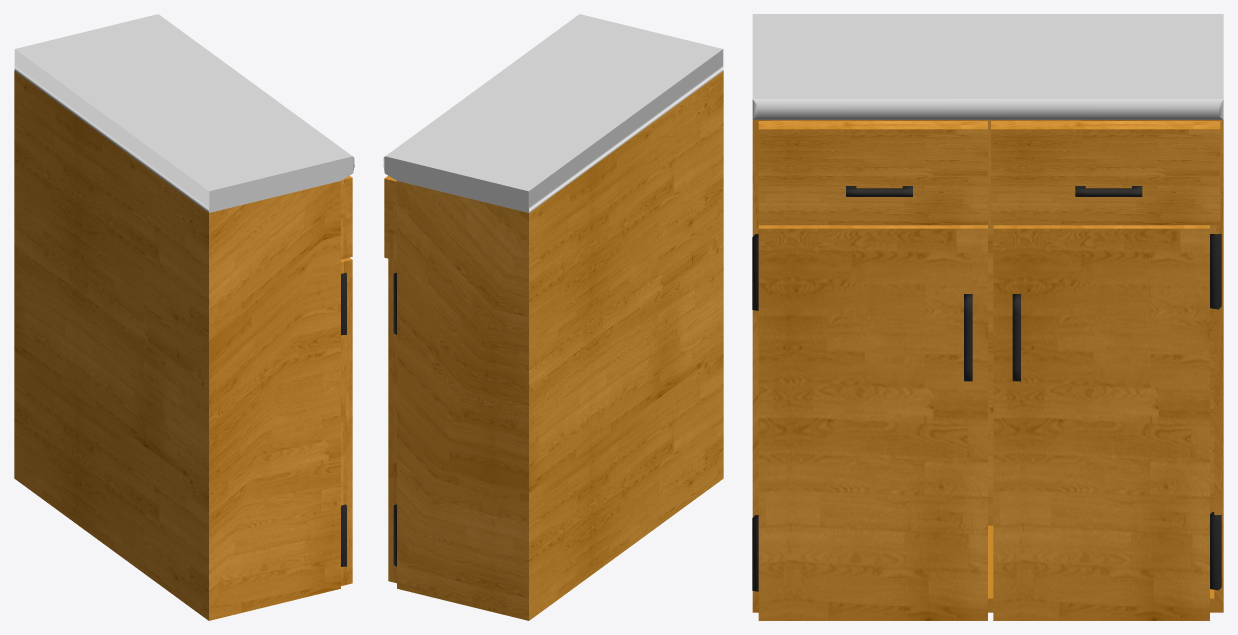
Rendered from welcome_room_cabinets.fbx.
3 views of the same model, side by side, from view 1: azimuth 30°, elevation 25°; view 2: azimuth 150°, elevation 25°; view 3: azimuth 270°, elevation 25° (orthographic). The views are drawn at different scales.
Parts seen in each view (by area): view 1: cabinet, leftdoor, rightdrawer; view 2: cabinet, rightdoor, leftdrawer; view 3: leftdoor, rightdoor, cabinet, leftdrawer, rightdrawer, rightbottomhinge, righttophinge, lefthandle, righthandle, lefthandle2, lefthandle1.
Boxes of the visible parts, x1,y1,x2,y2 form: cabinet: [14, 14, 354, 620]; leftdoor: [341, 257, 352, 585]; rightdrawer: [341, 175, 352, 259]; cabinet: [383, 14, 723, 620]; rightdoor: [388, 258, 396, 583]; leftdrawer: [384, 175, 396, 260]; leftdoor: [758, 225, 987, 620]; rightdoor: [993, 225, 1209, 620]; cabinet: [752, 14, 1223, 612]; leftdrawer: [991, 121, 1220, 225]; rightdrawer: [758, 121, 987, 225]; rightbottomhinge: [1210, 512, 1221, 590]; righttophinge: [1210, 234, 1221, 309]; lefthandle: [964, 294, 972, 381]; righthandle: [1012, 294, 1020, 381]; lefthandle2: [1075, 186, 1142, 196]; lefthandle1: [846, 186, 912, 196].
Size of the model in its own units: 0.8942 by 2.28 by 1.88.
3 materials, 1 textured.
